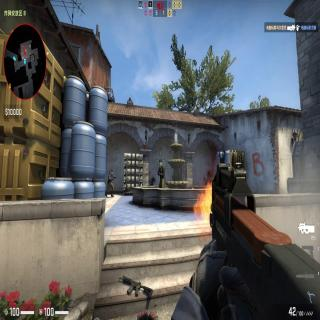T-Body: (106, 169, 116, 197)
T-Head: (110, 170, 114, 174)
